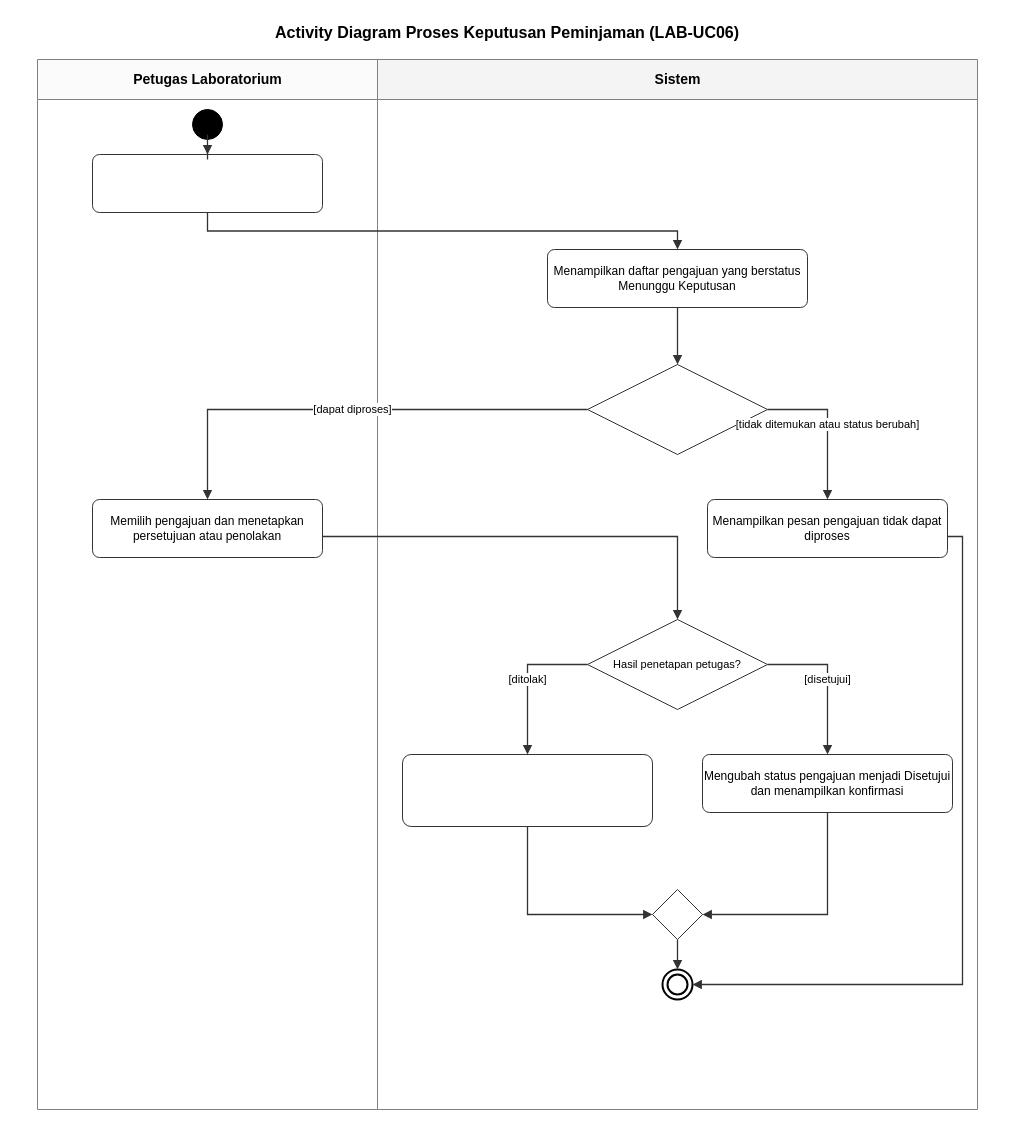
The diagram is 1014 pixels wide and 1127 high, and some of its shapes have lost their labels. Each missing label, with the centre of its shape:
Membuka daftar pengajuan yang berstatus Menunggu Keputusan: (x=207, y=183)
Mengubah status pengajuan menjadi Ditolak dan menampilkan konfirmasi penolakan: (x=527, y=790)
Pengajuan dapat diproses?: (x=677, y=409)
